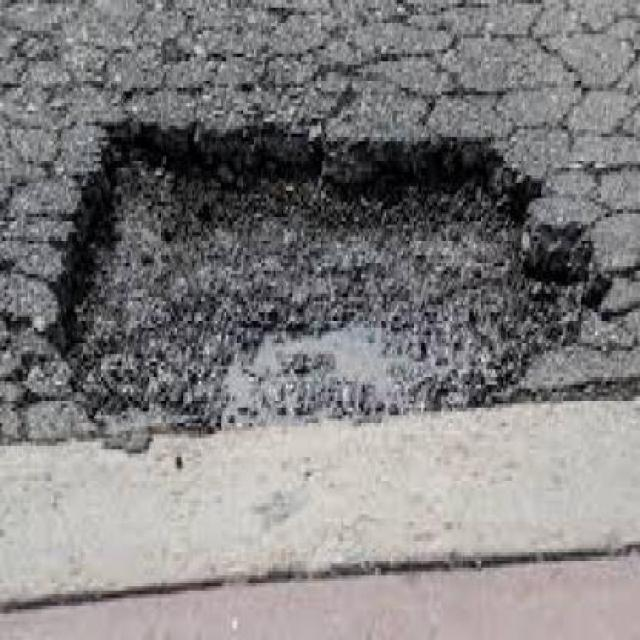pothole: (40, 106, 612, 431)
